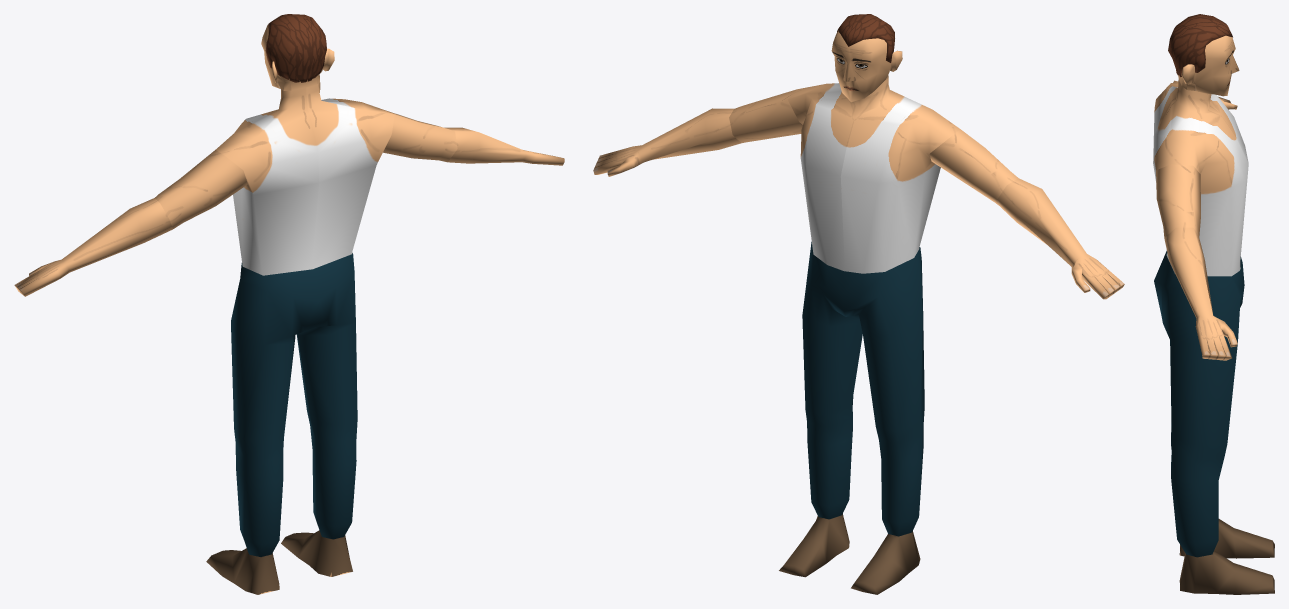
The model's file is Bobby.fbx.
The picture shows the model from 3 angles, left to right: view 1: azimuth 30°, elevation 25°; view 2: azimuth 150°, elevation 25°; view 3: azimuth 270°, elevation 25°; orthographic projection. The views are drawn at different scales.
Parts seen in each view (by area): view 1: Skin, pants, Hair.001; view 2: Skin, pants, Hair.001; view 3: Skin, pants, Hair.001.
Part boxes in pixels (box(x1,y1,x2,y2)): Skin: box(14, 25, 564, 594); pants: box(231, 253, 357, 556); Hair.001: box(265, 14, 326, 82); Skin: box(593, 30, 1124, 594); pants: box(802, 242, 924, 536); Hair.001: box(837, 14, 894, 62); Skin: box(1153, 35, 1274, 594); pants: box(1154, 250, 1244, 557); Hair.001: box(1168, 14, 1232, 77).
Bounding box in the file's own units: 329 × 325 × 64.85.
3 materials, 3 textured.
